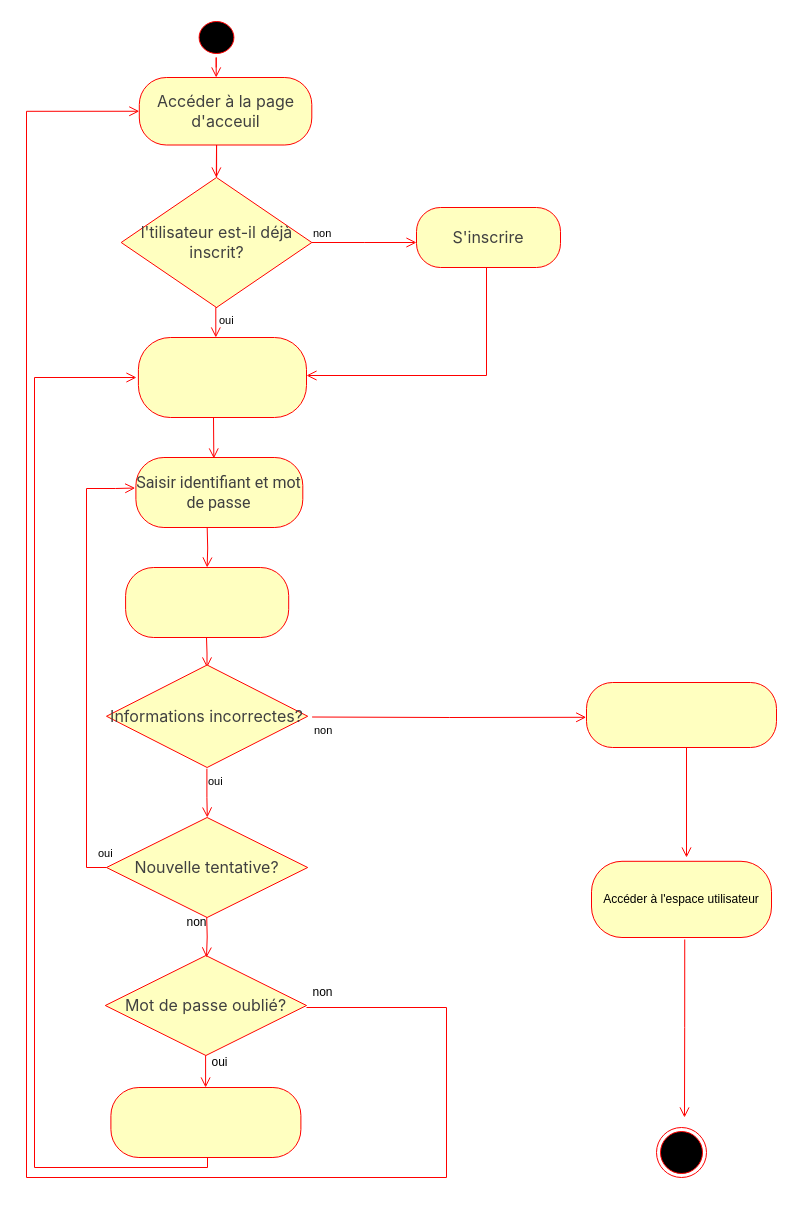
Image size: 794x1205. Some labels were removed from this diagram. The centre of each missing label's shape, as x and y in pixels:
Accéder à la page de connexion: point (221, 377)
Connexion réussie: point (681, 715)
Envoyer les informations: point (207, 602)
Récupération de compte: point (205, 1122)
